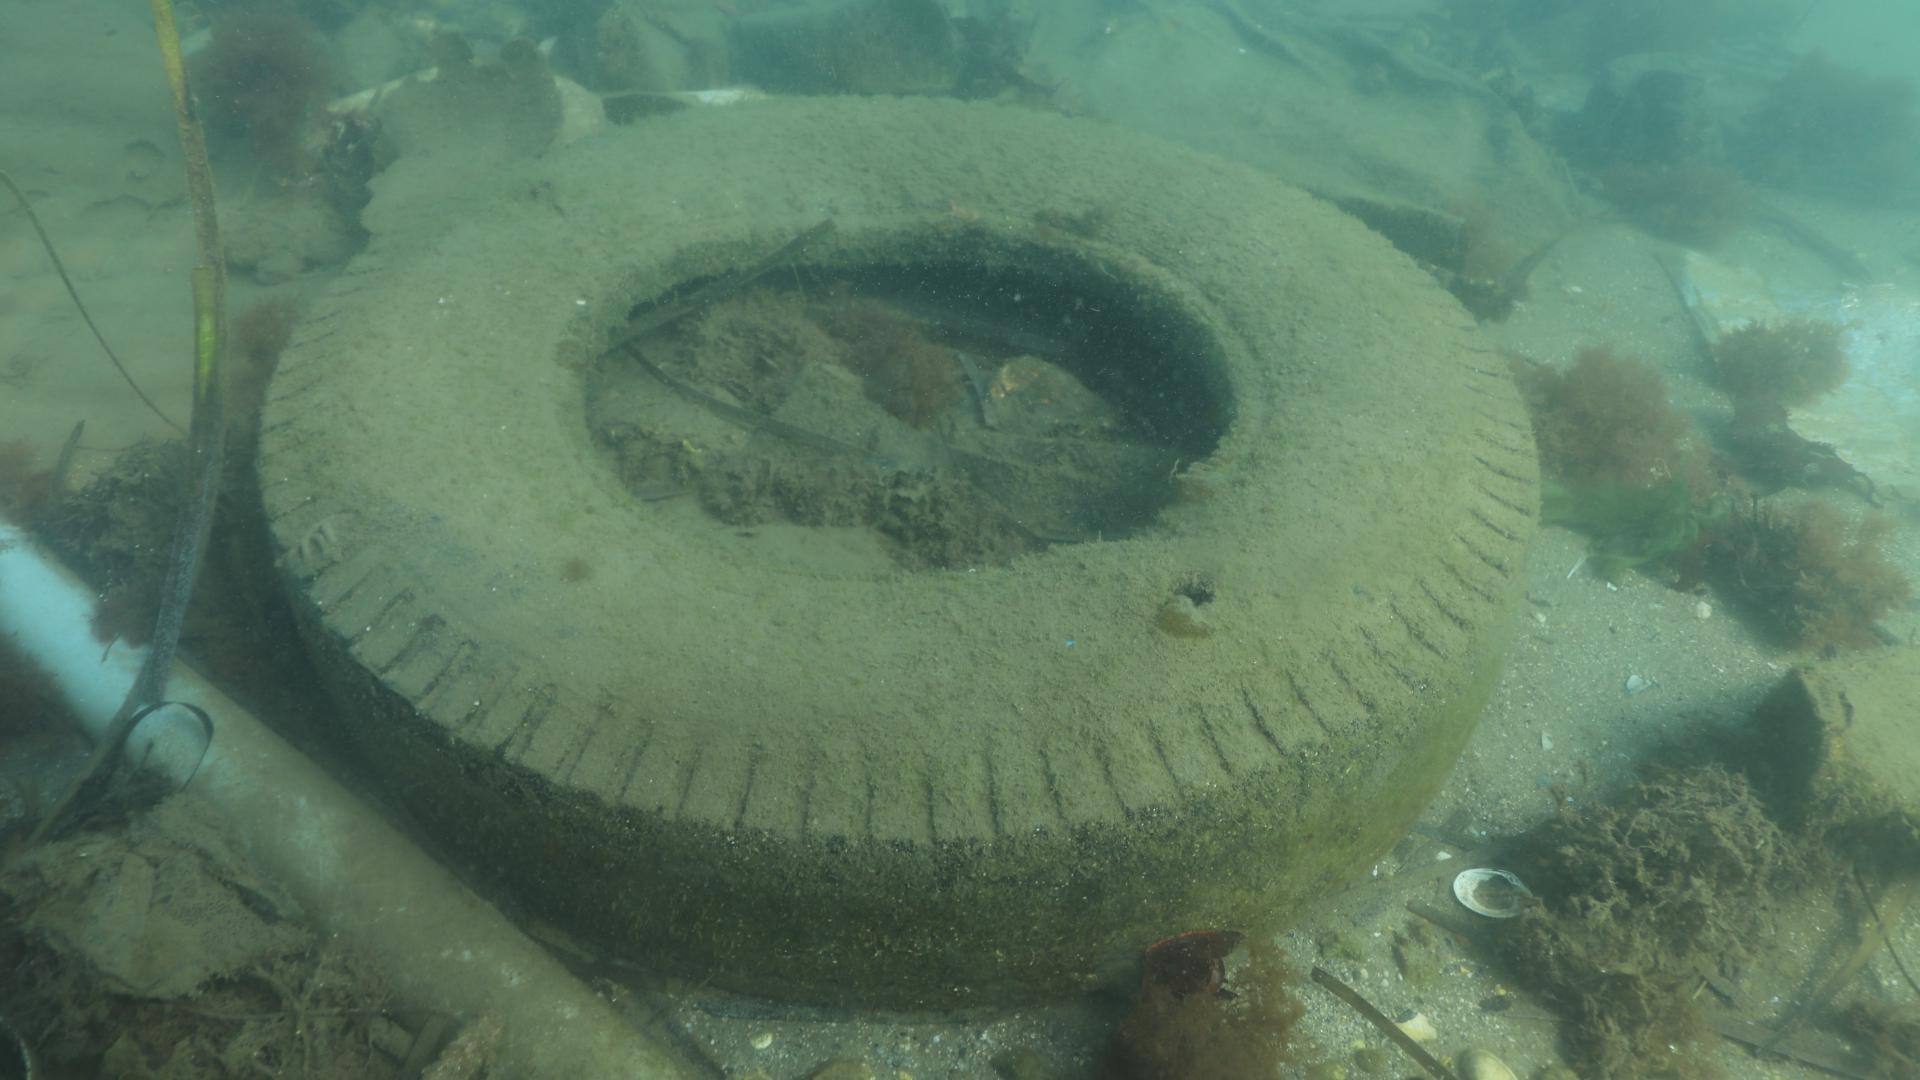tire: (258, 94, 1544, 1013)
